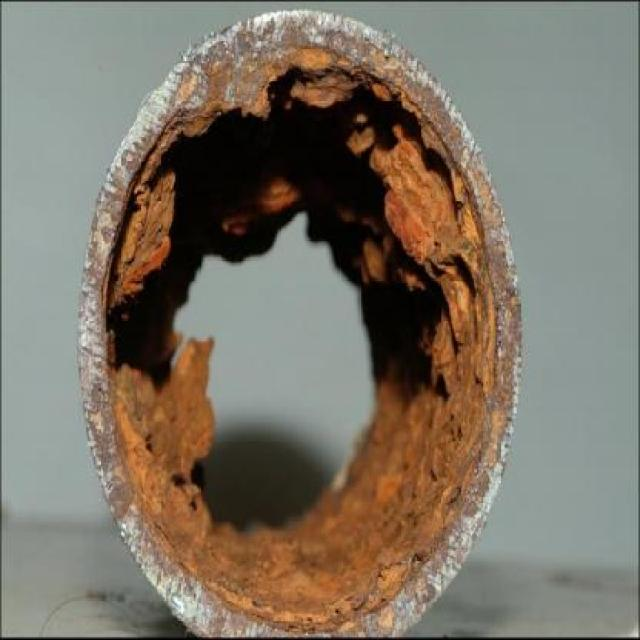corrosion: (78, 4, 524, 640)
